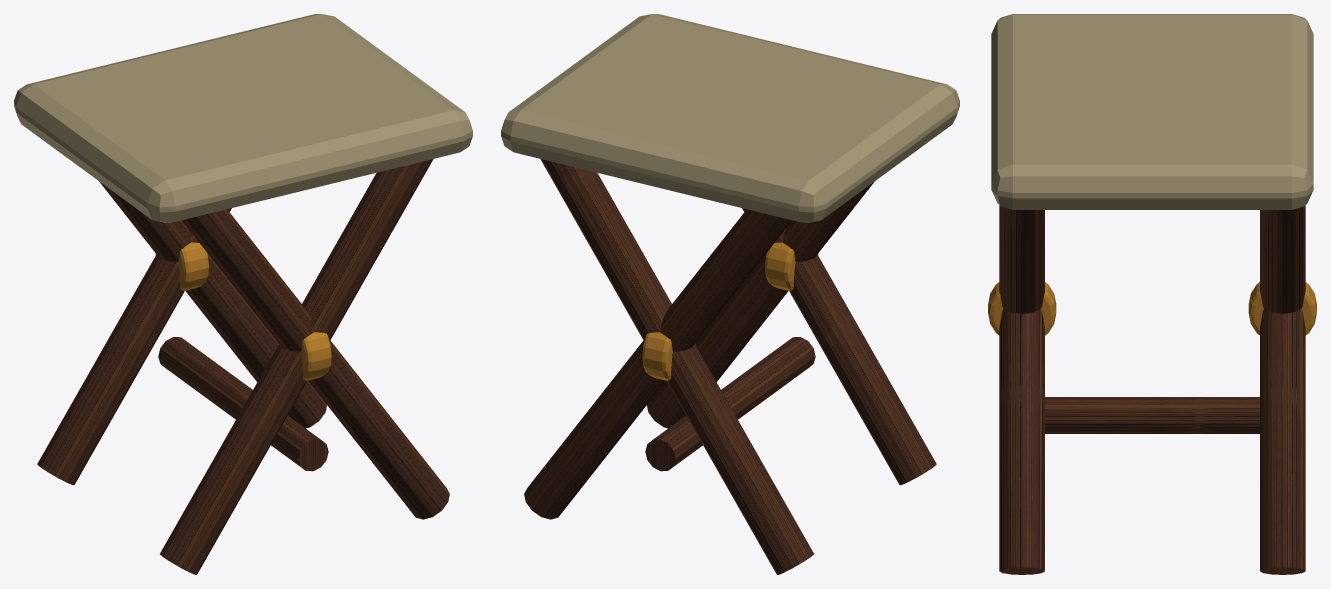
The model's file is folding-stool.glb.
The picture shows the model from 3 angles, left to right: view 1: azimuth 30°, elevation 25°; view 2: azimuth 150°, elevation 25°; view 3: azimuth 270°, elevation 25°; orthographic projection. The views are drawn at different scales.
Visible parts, largest first — view 1: StoolCanvasSeat, StoolLegA_0.21, StoolLegB_0.21, StoolLegA_-0.21, StoolLegB_-0.21, StoolCrossbar, StoolPivot_0.21, StoolPivot_-0.21; view 2: StoolCanvasSeat, StoolLegA_-0.21, StoolLegB_-0.21, StoolLegA_0.21, StoolLegB_0.21, StoolCrossbar, StoolPivot_-0.21, StoolPivot_0.21; view 3: StoolCanvasSeat, StoolLegB_-0.21, StoolLegB_0.21, StoolCrossbar, StoolLegA_-0.21, StoolLegA_0.21, StoolPivot_-0.21, StoolPivot_0.21.
Part boxes in pixels (x1,y1,x2,y2): StoolCanvasSeat: [14, 14, 472, 222]; StoolLegA_0.21: [160, 159, 433, 574]; StoolLegB_0.21: [182, 209, 449, 519]; StoolLegA_-0.21: [37, 208, 231, 485]; StoolLegB_-0.21: [99, 181, 326, 428]; StoolCrossbar: [158, 337, 328, 471]; StoolPivot_0.21: [278, 332, 331, 380]; StoolPivot_-0.21: [155, 242, 208, 291]; StoolCanvasSeat: [501, 14, 959, 222]; StoolLegA_-0.21: [540, 159, 813, 574]; StoolLegB_-0.21: [524, 209, 791, 519]; StoolLegA_0.21: [742, 208, 936, 485]; StoolLegB_0.21: [647, 181, 874, 428]; StoolCrossbar: [645, 337, 815, 471]; StoolPivot_-0.21: [642, 332, 695, 380]; StoolPivot_0.21: [765, 242, 818, 291]; StoolCanvasSeat: [991, 14, 1313, 209]; StoolLegB_-0.21: [1260, 309, 1305, 574]; StoolLegB_0.21: [999, 309, 1044, 574]; StoolCrossbar: [1045, 397, 1259, 433]; StoolLegA_-0.21: [1260, 205, 1305, 313]; StoolLegA_0.21: [999, 205, 1044, 313]; StoolPivot_-0.21: [1248, 282, 1316, 335]; StoolPivot_0.21: [988, 282, 1056, 335].
Bounding box in the file's own units: 0.64 × 0.761 × 0.53.
3 materials, 1 textured.
